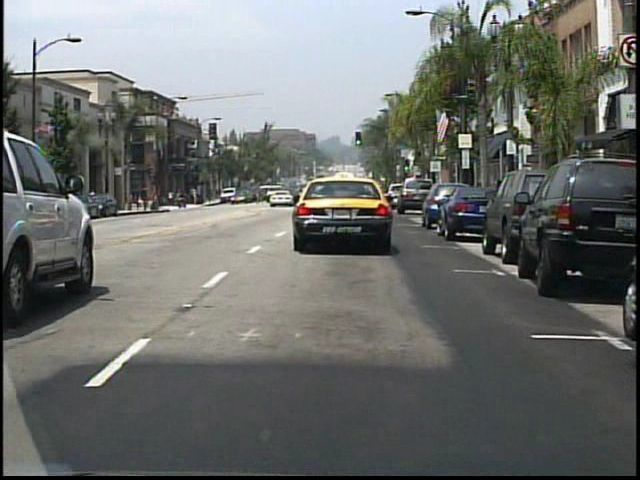person: (185, 189, 193, 209)
